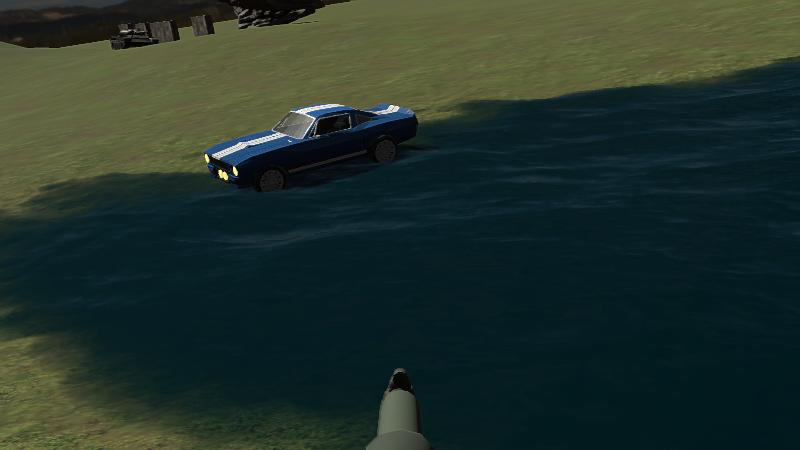car: (202, 96, 421, 194)
